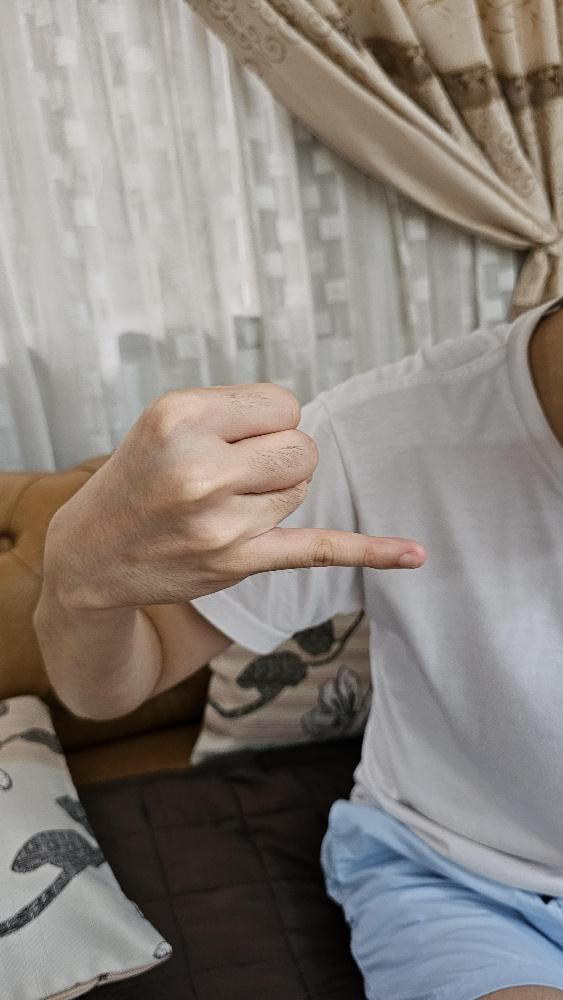j: (41, 380, 430, 608)
